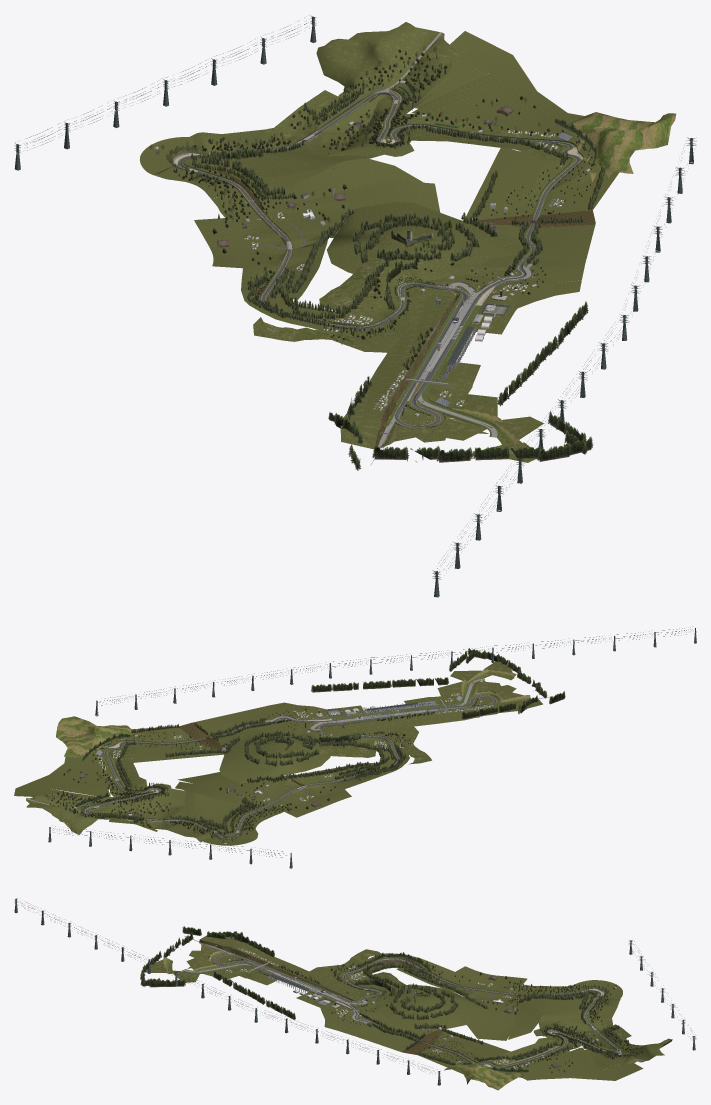
The model's file is kleine.glb.
The picture shows the model from 3 angles, top to bottom: view 1: azimuth 30°, elevation 25°; view 2: azimuth 150°, elevation 25°; view 3: azimuth 270°, elevation 25°; orthographic projection. The views are drawn at different scales.
Visible parts, largest first — view 1: Object_53, Object_109, Object_108, Object_57, Object_106, Object_71, Object_78, Object_8, Object_104, Object_107, Object_105, Object_84 (+4 smaller); view 2: Object_53, Object_109, Object_108, Object_57, Object_106, Object_71, Object_84, Object_104, Object_107, Object_78, Object_75, Object_105 (+5 smaller); view 3: Object_53, Object_109, Object_108, Object_106, Object_57, Object_71, Object_8, Object_78, Object_84, Object_104, Object_107, Object_105 (+6 smaller).
Part boxes in pixels (left/top/right/bottom): Object_53: left=140, top=22, right=634, bottom=462; Object_109: left=175, top=50, right=604, bottom=364; Object_108: left=193, top=82, right=605, bottom=337; Object_57: left=380, top=112, right=675, bottom=449; Object_106: left=330, top=263, right=590, bottom=469; Object_71: left=179, top=92, right=580, bottom=416; Object_78: left=14, top=15, right=696, bottom=597; Object_8: left=211, top=99, right=595, bottom=429; Object_104: left=173, top=56, right=598, bottom=368; Object_107: left=178, top=49, right=600, bottom=369; Object_105: left=328, top=263, right=593, bottom=470; Object_84: left=172, top=87, right=582, bottom=465; Object_53: left=14, top=661, right=542, bottom=845; Object_109: left=52, top=712, right=428, bottom=834; Object_108: left=95, top=718, right=404, bottom=834; Object_57: left=56, top=669, right=530, bottom=757; Object_106: left=313, top=648, right=563, bottom=742; Object_71: left=87, top=699, right=481, bottom=837; Object_84: left=83, top=677, right=554, bottom=839; Object_104: left=57, top=708, right=432, bottom=837; Object_107: left=51, top=709, right=434, bottom=833; Object_78: left=48, top=628, right=696, bottom=868; Object_75: left=53, top=627, right=690, bottom=857; Object_105: left=311, top=648, right=565, bottom=741; Object_53: left=142, top=931, right=672, bottom=1082; Object_109: left=284, top=953, right=639, bottom=1065; Object_108: left=331, top=952, right=627, bottom=1065; Object_106: left=142, top=926, right=390, bottom=1019; Object_57: left=163, top=942, right=527, bottom=1090; Object_71: left=228, top=955, right=619, bottom=1068; Object_8: left=221, top=946, right=617, bottom=1054; Object_78: left=14, top=898, right=695, bottom=1085; Object_84: left=182, top=936, right=621, bottom=1068; Object_104: left=280, top=964, right=637, bottom=1072; Object_107: left=278, top=965, right=642, bottom=1072; Object_105: left=140, top=926, right=390, bottom=1019.
Bounding box in the file's own units: 1601 × 114 × 2575.
97 materials, 96 textured.
